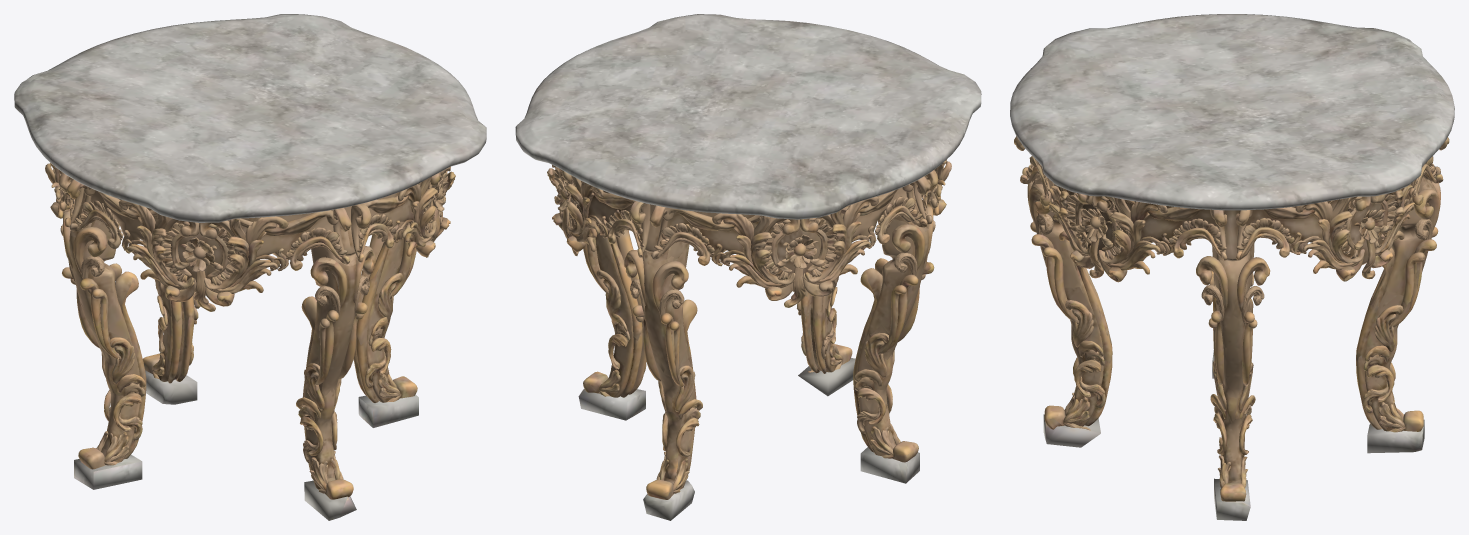
File: antique_table-transformed.glb
The picture shows the model from 3 angles, left to right: view 1: azimuth 30°, elevation 25°; view 2: azimuth 150°, elevation 25°; view 3: azimuth 270°, elevation 25°; orthographic projection.
Parts seen in each view (by area): view 1: Object_2; view 2: Object_2; view 3: Object_2.
Part boxes in pixels (left/top/right/bottom): Object_2: left=14, top=14, right=486, bottom=520; Object_2: left=515, top=14, right=981, bottom=520; Object_2: left=1010, top=14, right=1454, bottom=520.
Size of the model in its own units: 26.59 by 22.7 by 26.6.
Materials: 1 (1 with a texture image).
